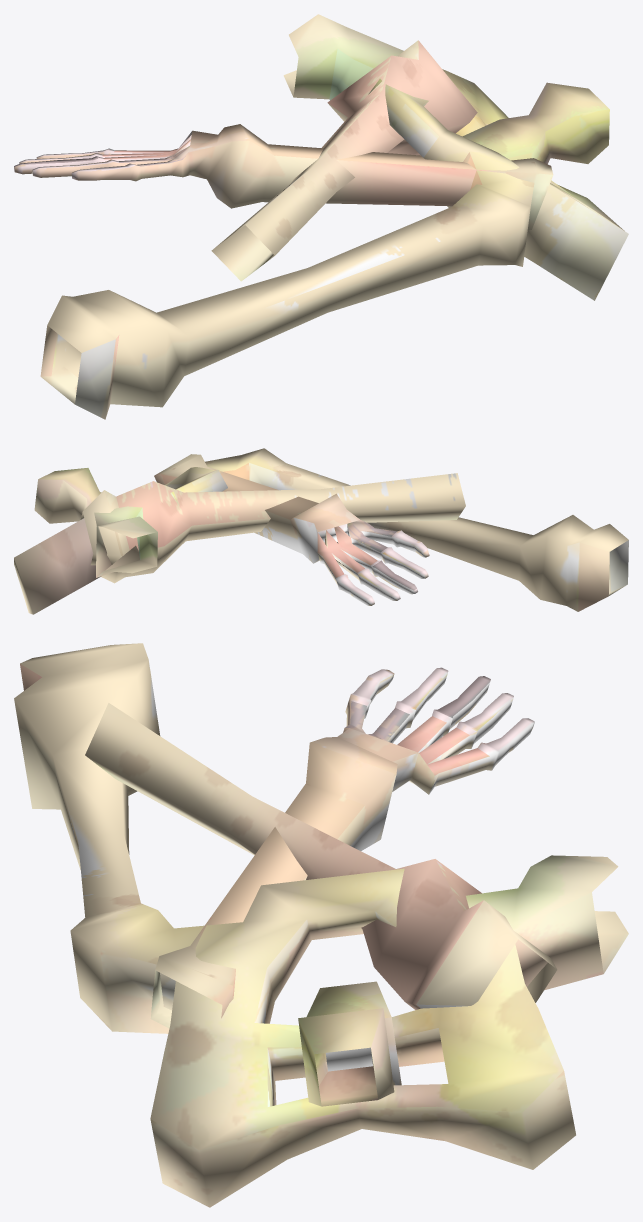
File: Bones.fbx
3 views of the same model, one above another, from view 1: azimuth 30°, elevation 25°; view 2: azimuth 150°, elevation 25°; view 3: azimuth 270°, elevation 25° (orthographic). The views are drawn at different scales.
Visible parts, largest first — view 1: Cube.013; view 2: Cube.013; view 3: Cube.013.
Boxes of the visible parts, x1=… form: Cube.013: x1=14, y1=14, x2=628, y2=419; Cube.013: x1=14, y1=448, x2=628, y2=614; Cube.013: x1=14, y1=643, x2=628, y2=1207.
Size of the model in its own units: 139 by 41.7 by 86.38.
